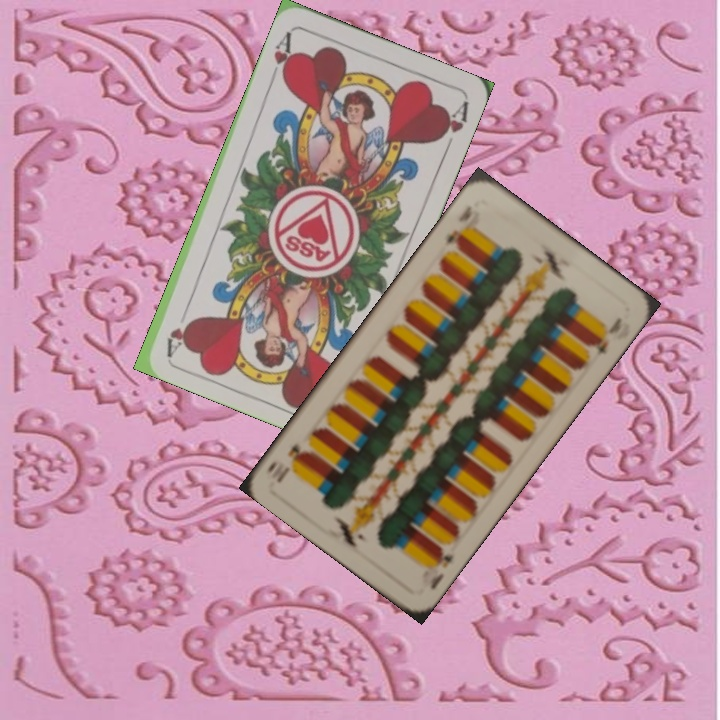E10: (441, 201, 475, 250), (426, 542, 457, 593)
HA: (266, 27, 297, 84)
